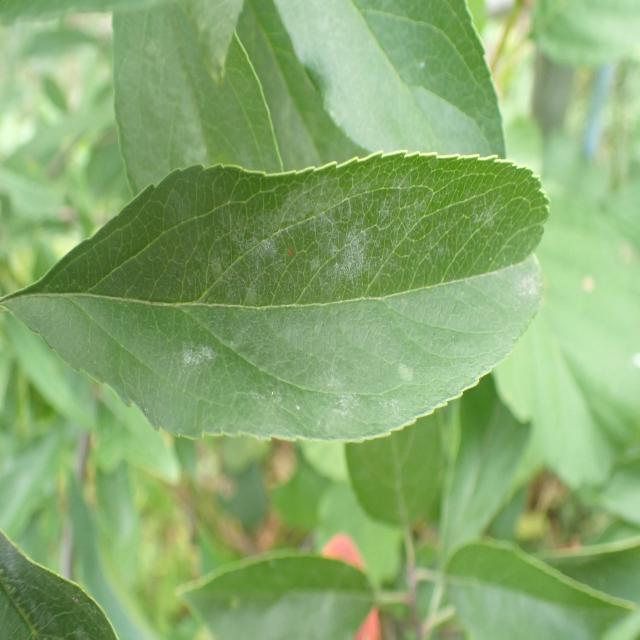Powdery_mildew: (37, 146, 560, 482)
